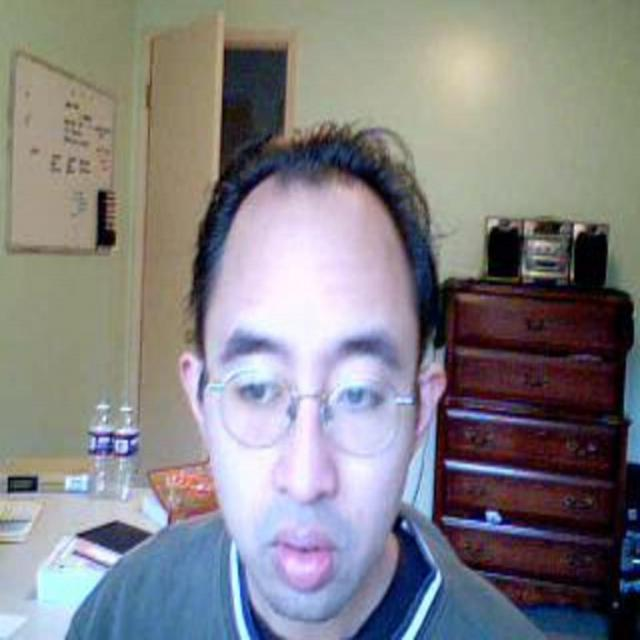closed-mouth: (272, 523, 338, 592)
